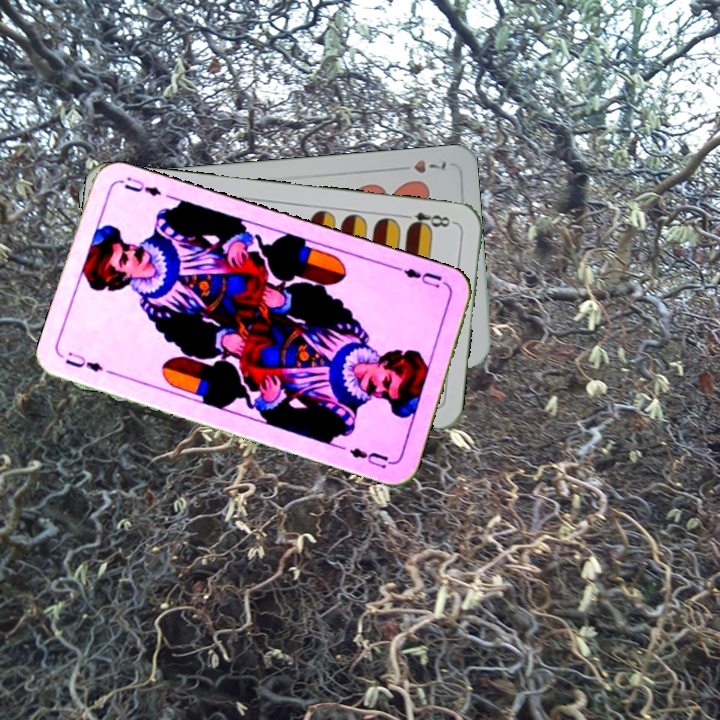E8: (398, 208, 457, 233)
EU: (392, 263, 445, 291), (61, 348, 106, 375)
H7: (392, 156, 449, 176)
